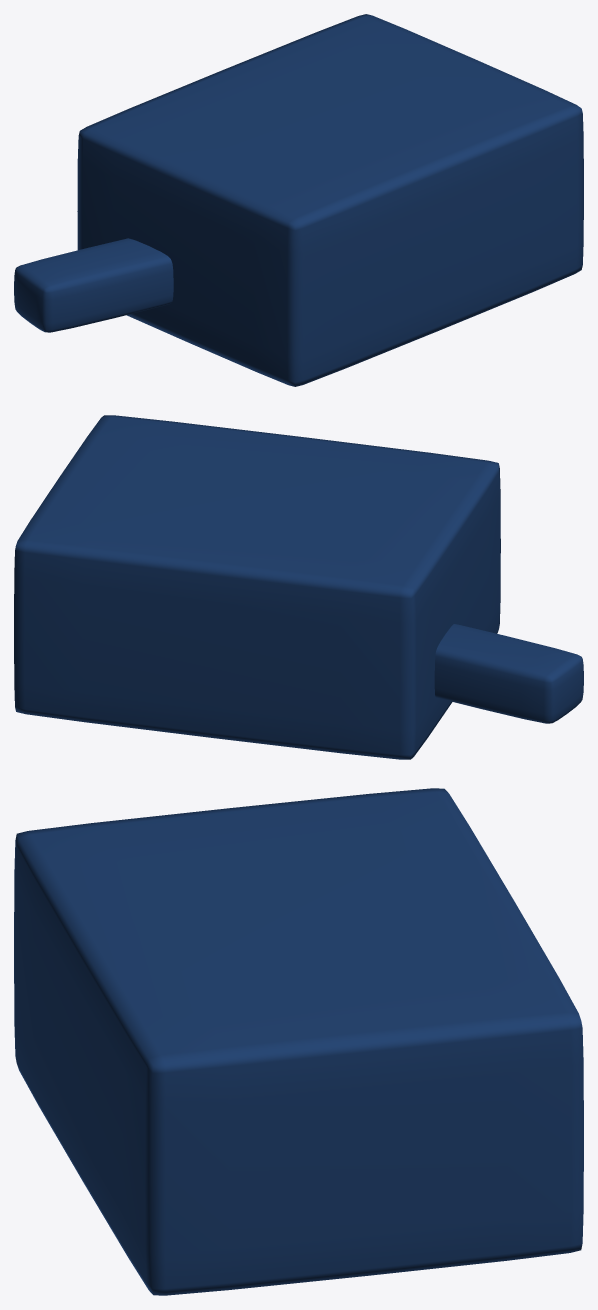
The model's file is mirror_left.glb.
The picture shows the model from 3 angles, top to bottom: view 1: azimuth 30°, elevation 25°; view 2: azimuth 150°, elevation 25°; view 3: azimuth 270°, elevation 25°; orthographic projection. The views are drawn at different scales.
Parts seen in each view (by area): view 1: GEO_Mirror_Left; view 2: GEO_Mirror_Left; view 3: GEO_Mirror_Left.
Part boxes in pixels (x1,y1,x2,y2): GEO_Mirror_Left: [14, 14, 583, 386]; GEO_Mirror_Left: [14, 415, 583, 759]; GEO_Mirror_Left: [14, 788, 583, 1295].
Size of the model in its own units: 0.1993 by 0.0648 by 0.137.
